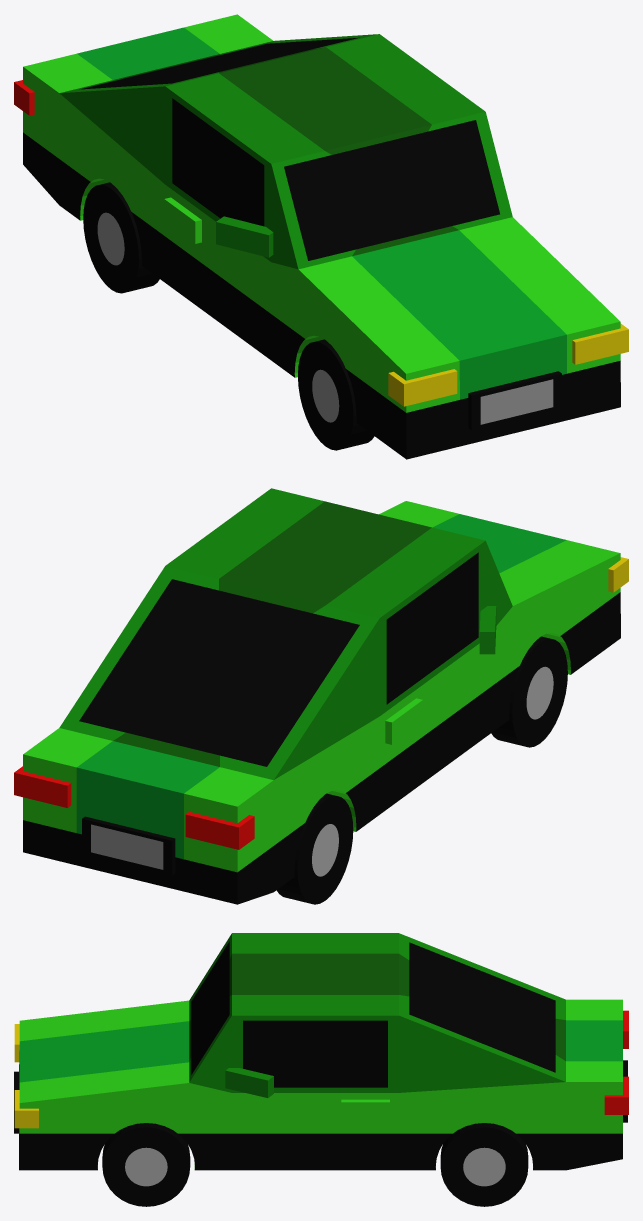
File: Mobil_Satu_Hijau.fbx
3 views of the same model, one above another, from view 1: azimuth 30°, elevation 25°; view 2: azimuth 150°, elevation 25°; view 3: azimuth 270°, elevation 25° (orthographic). The views are drawn at different scales.
Parts seen in each view (by area): view 1: Mobil3; view 2: Mobil3; view 3: Mobil3.
Boxes of the visible parts, bbox=[...] form: Mobil3: bbox=[14, 14, 628, 459]; Mobil3: bbox=[14, 488, 628, 904]; Mobil3: bbox=[14, 933, 628, 1206].
Bounding box in the file's own units: 521 × 433 × 1261.
